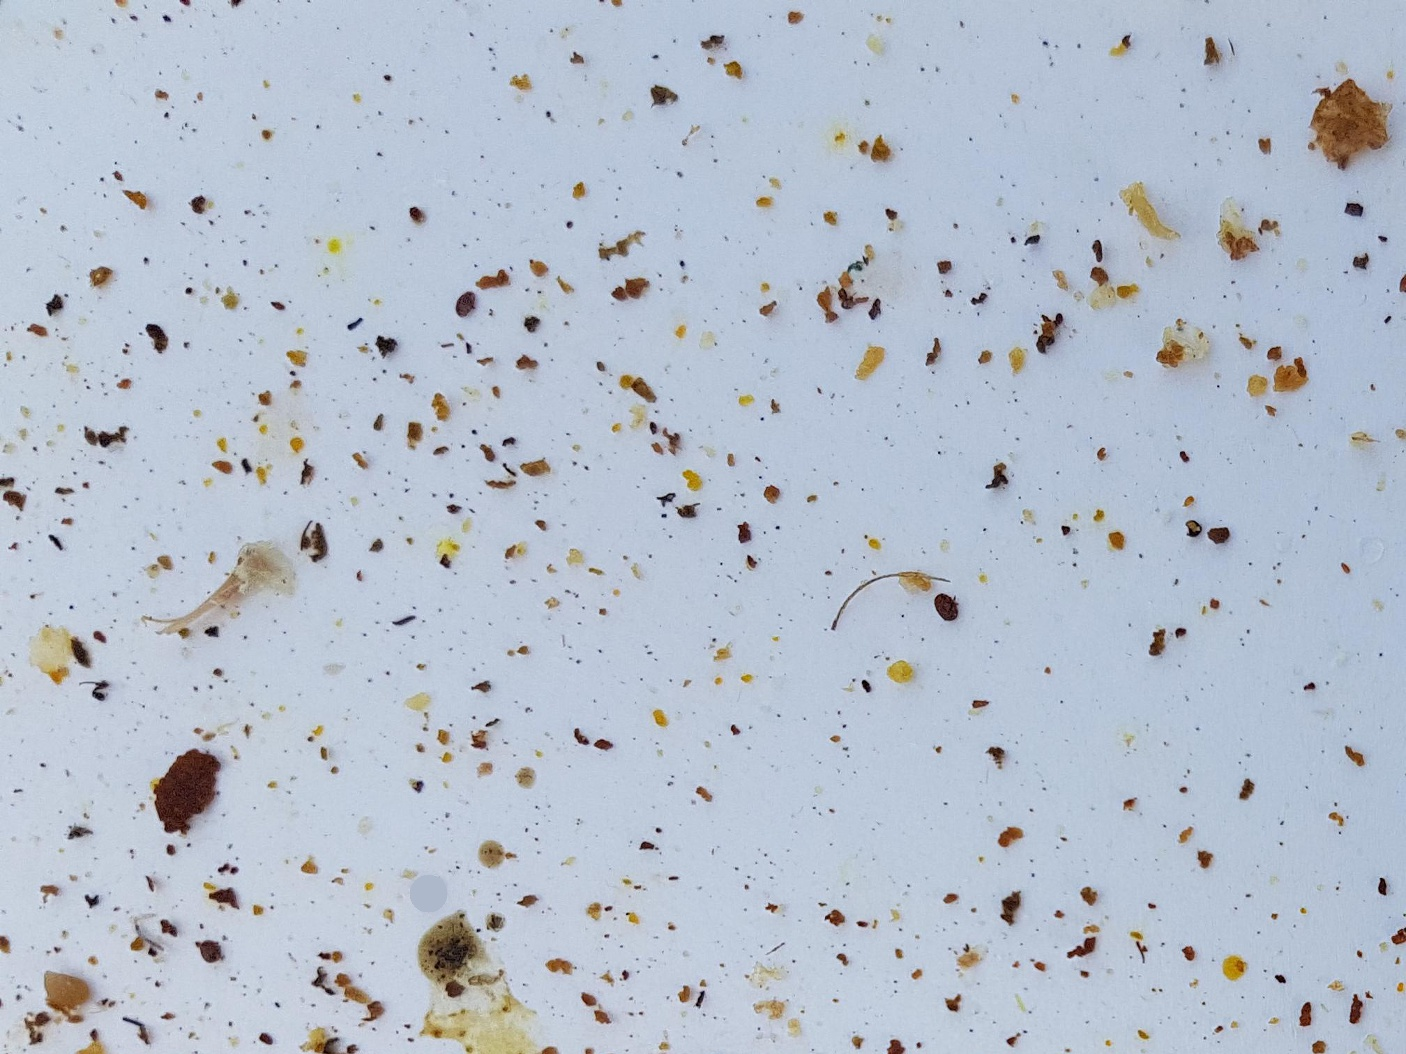Varroa: (938, 603, 976, 644), (190, 932, 225, 969), (449, 288, 484, 322), (926, 590, 960, 624)
